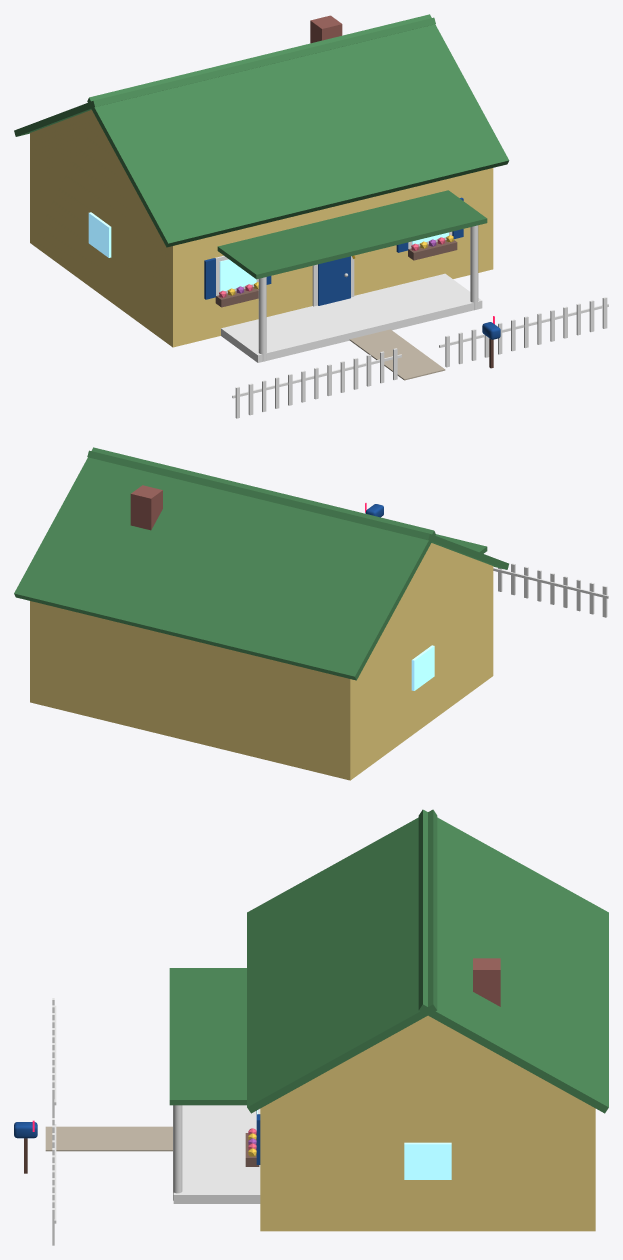
The model's file is bubbe_house.glb.
3 renders of one model, top to bottom at view 1: azimuth 30°, elevation 25°; view 2: azimuth 150°, elevation 25°; view 3: azimuth 270°, elevation 25°, orthographic. The views are drawn at different scales.
Parts seen in each view (by area): view 1: BubbeHouse_body; view 2: BubbeHouse_body; view 3: BubbeHouse_body.
Boxes of the visible parts, x1,y1,x2,y2 form: BubbeHouse_body: (14,14,608,418); BubbeHouse_body: (14,447,608,780); BubbeHouse_body: (14,809,608,1245).
Bounding box in the file's own units: 12.9 × 6.54 × 15.09.
